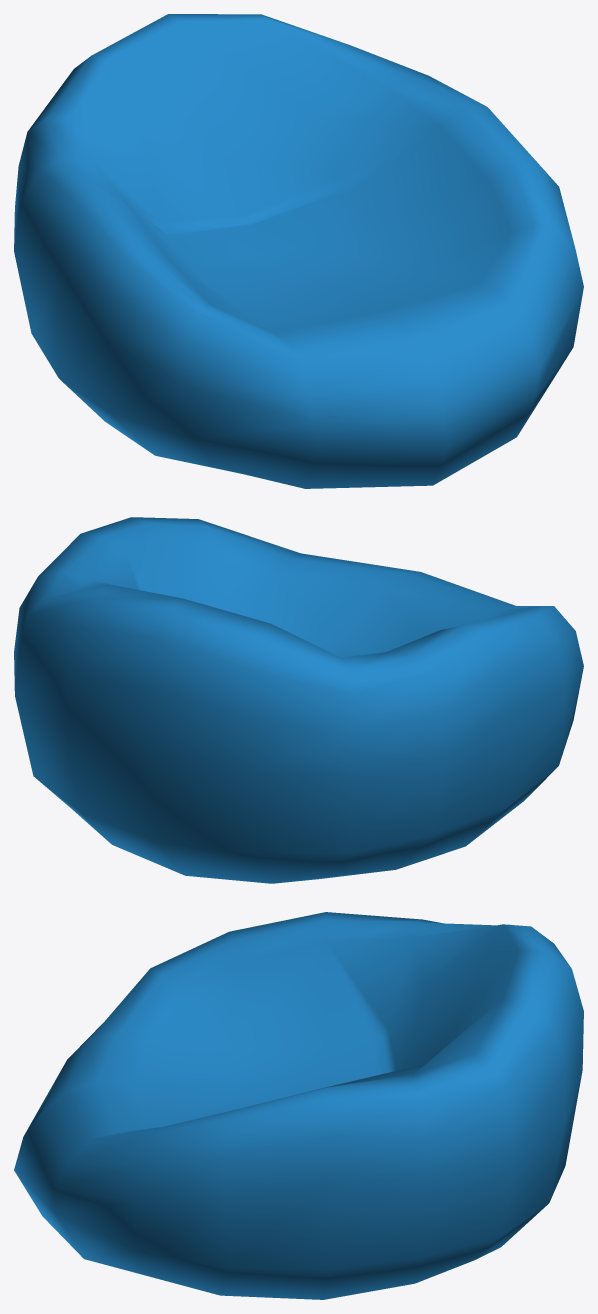
Rendered from Mixed_BeanBag_01.fbx.
3 renders of one model, top to bottom at view 1: azimuth 30°, elevation 25°; view 2: azimuth 150°, elevation 25°; view 3: azimuth 270°, elevation 25°, orthographic. The views are drawn at different scales.
Parts seen in each view (by area): view 1: Mixed_BeanBag_01; view 2: Mixed_BeanBag_01; view 3: Mixed_BeanBag_01.
Boxes of the visible parts, x1,y1,x2,y2 form: Mixed_BeanBag_01: (14,14,583,488); Mixed_BeanBag_01: (14,517,583,883); Mixed_BeanBag_01: (14,912,583,1299).
Size of the model in its own units: 184 by 120 by 208.
